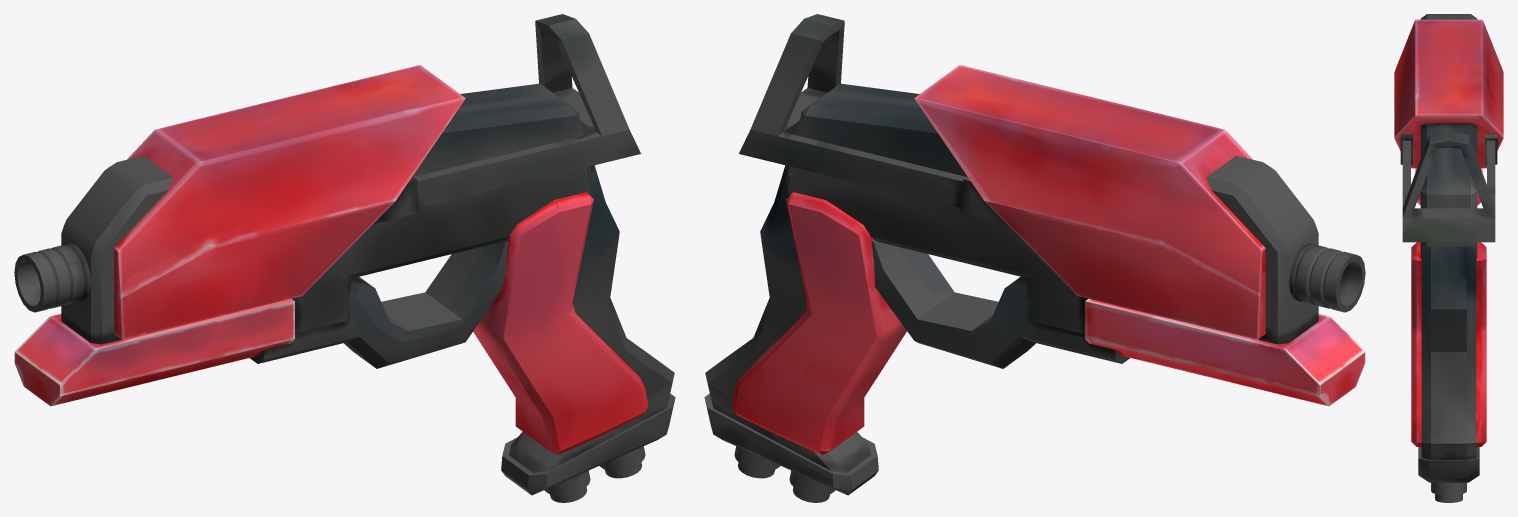
File: stylized_sci-fi_gun.fbx
3 views of the same model, side by side, from view 1: azimuth 30°, elevation 25°; view 2: azimuth 150°, elevation 25°; view 3: azimuth 270°, elevation 25° (orthographic). The views are drawn at different scales.
Parts seen in each view (by area): view 1: Cube.004; view 2: Cube.004; view 3: Cube.004.
Boxes of the visible parts, left/top/right/bottom form: Cube.004: left=14, top=14, right=675, bottom=502; Cube.004: left=704, top=14, right=1365, bottom=502; Cube.004: left=1394, top=14, right=1503, bottom=502.
Size of the model in its own units: 142 by 700 by 503.
1 material, 1 textured.
